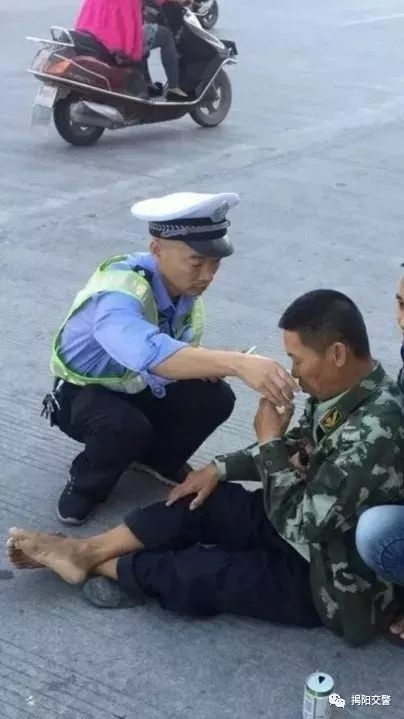falling: (8, 302, 386, 652)
